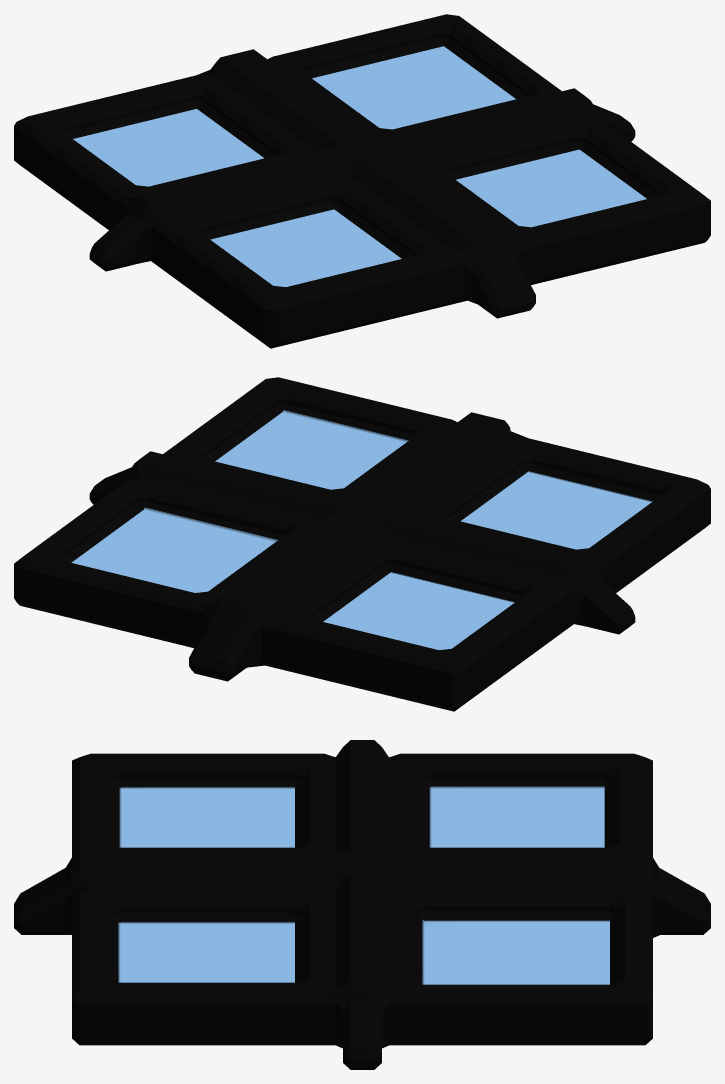
File: jumpingPlatform.fbx
3 renders of one model, top to bottom at view 1: azimuth 30°, elevation 25°; view 2: azimuth 150°, elevation 25°; view 3: azimuth 270°, elevation 25°, orthographic. The views are drawn at different scales.
Visible parts, largest first — view 1: Cube; view 2: Cube; view 3: Cube.
Boxes of the visible parts, box(x1,y1,x2,y2) form: Cube: box(14, 14, 710, 348); Cube: box(14, 377, 710, 711); Cube: box(14, 740, 710, 1069).
Bounding box in the file's own units: 240 × 25.18 × 240.
